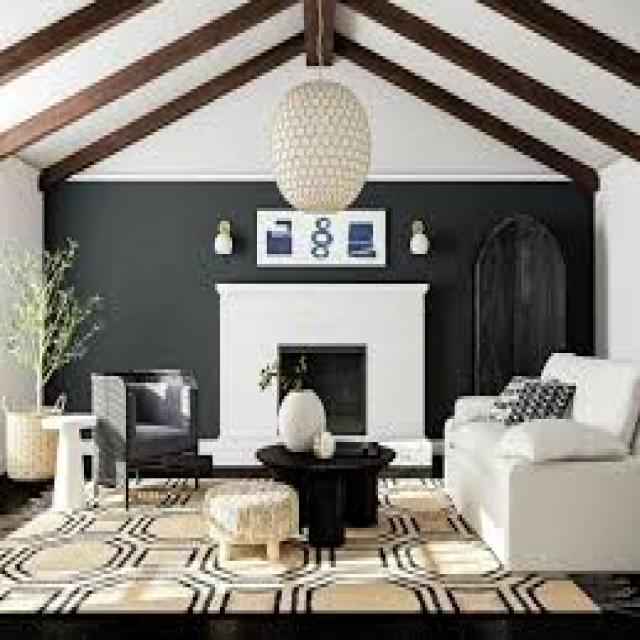noobs: (1, 476, 637, 638)
obs: (444, 351, 639, 573), (1, 241, 79, 500), (88, 364, 203, 509), (254, 434, 394, 550), (203, 477, 304, 559), (44, 414, 100, 513)
